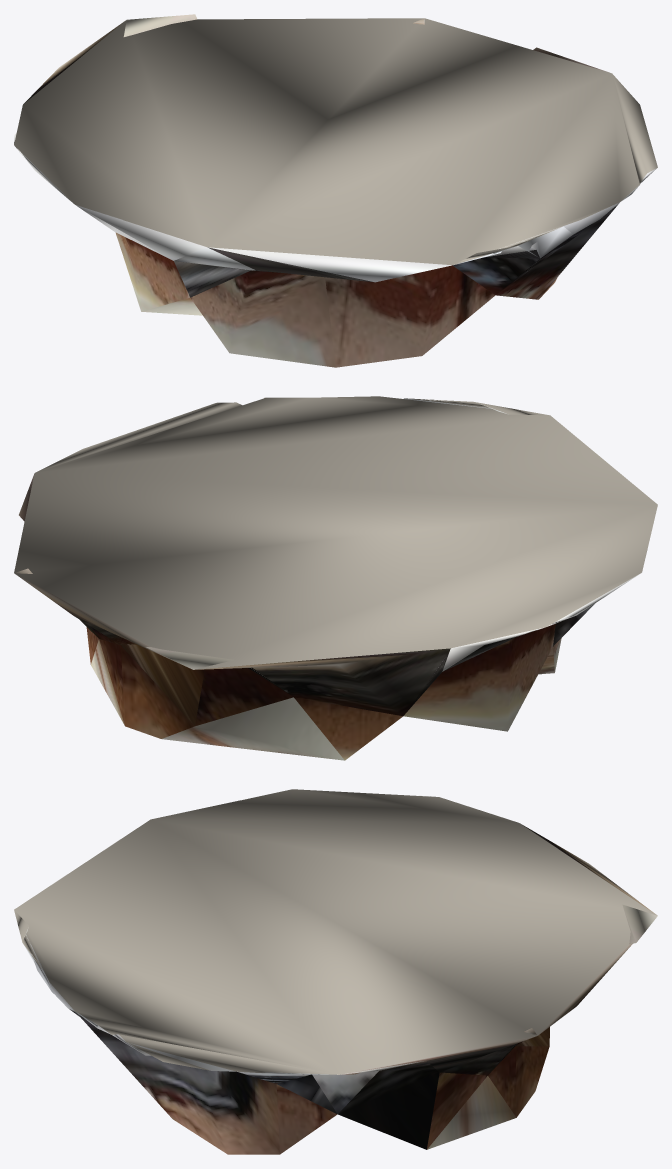
The model's file is cake_170.obj.
3 views of the same model, one above another, from view 1: azimuth 30°, elevation 25°; view 2: azimuth 150°, elevation 25°; view 3: azimuth 270°, elevation 25° (orthographic). The views are drawn at different scales.
Size of the model in its own units: 0.179 by 0.0495 by 0.1851.
Materials: 1 (1 with a texture image).
